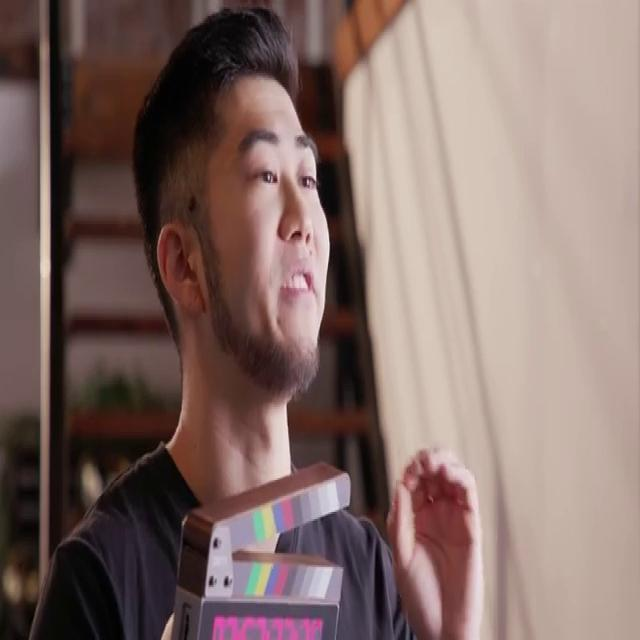Clapperboard: (162, 454, 358, 640)
